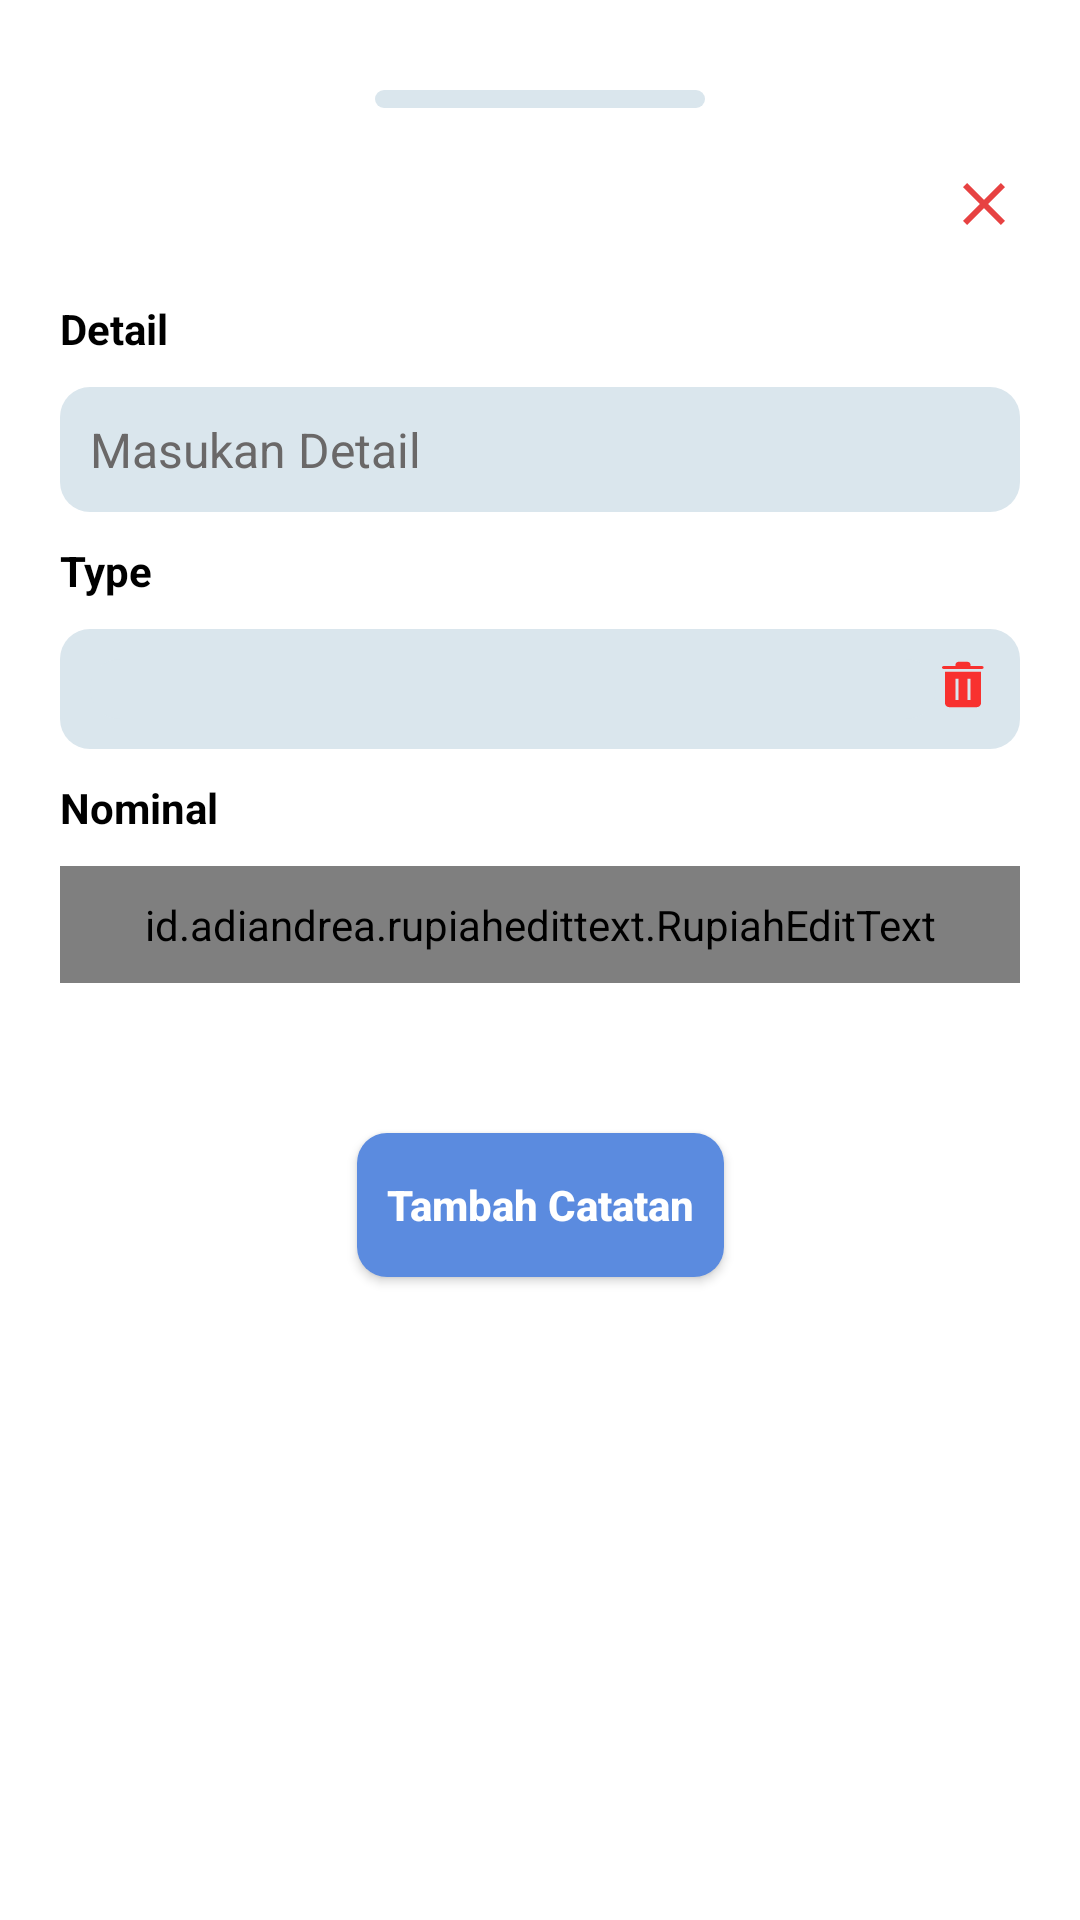

Screen size 1080px x 1920px. Icon name, then its center in pixels as [x,y]:
close: [984,204]
delete: [963,684]
